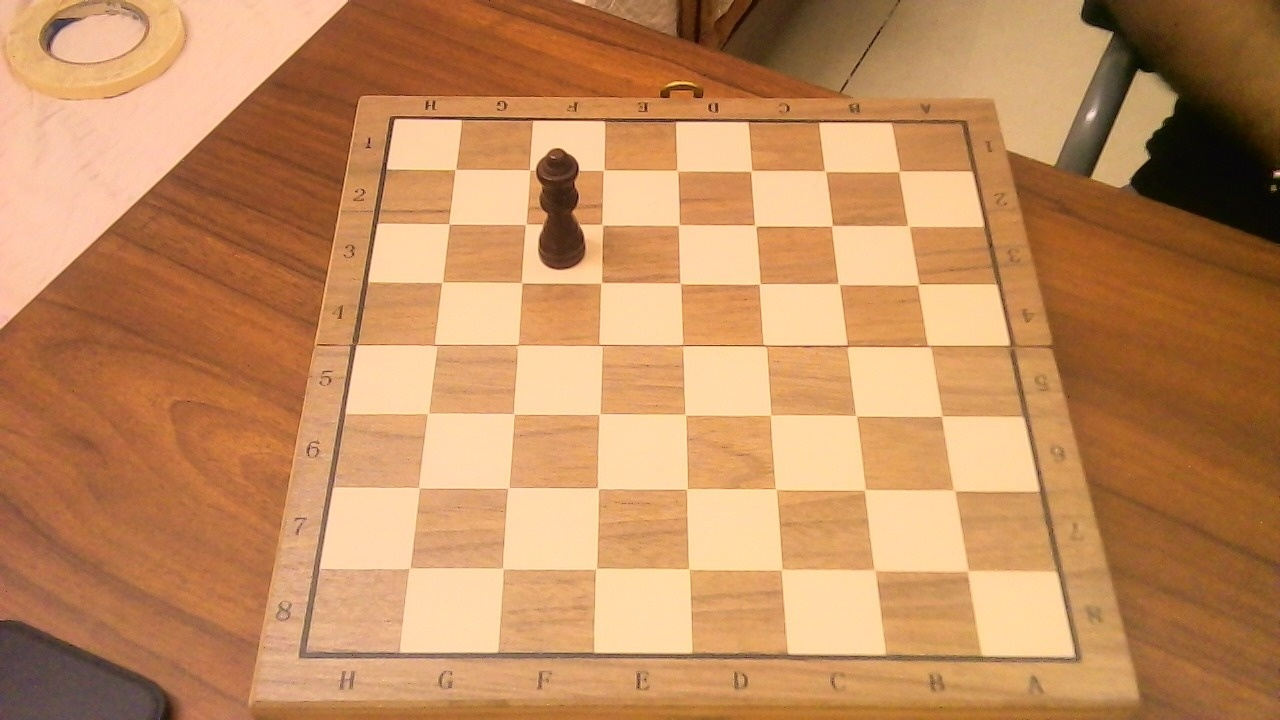q: (528, 135, 596, 275)
